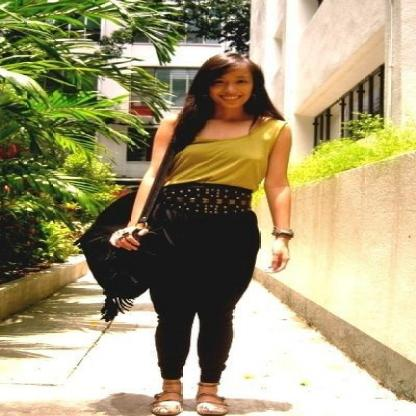bag: (74, 158, 181, 321)
pants: (129, 206, 259, 390)
shirt: (164, 116, 281, 191)
shoe: (153, 401, 221, 415)
